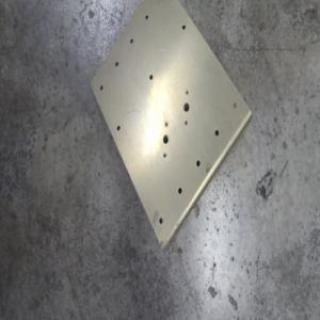MetalSheettrack_idkeyframe: (87, 0, 253, 254)
